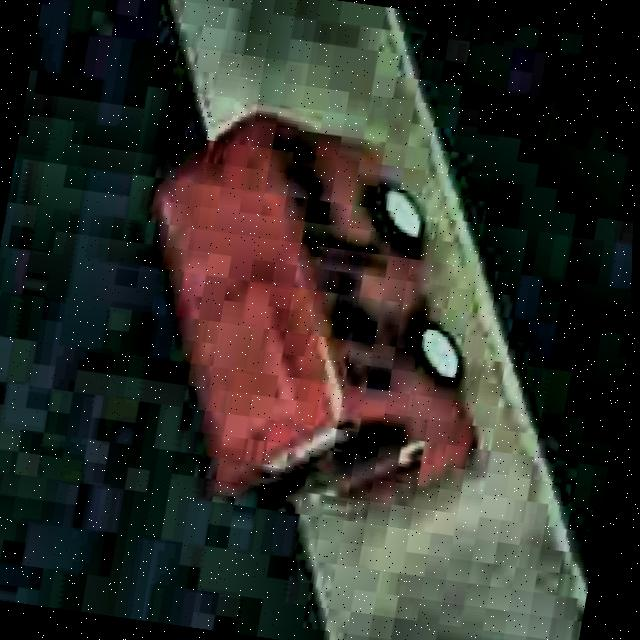bus: (104, 98, 530, 534)
